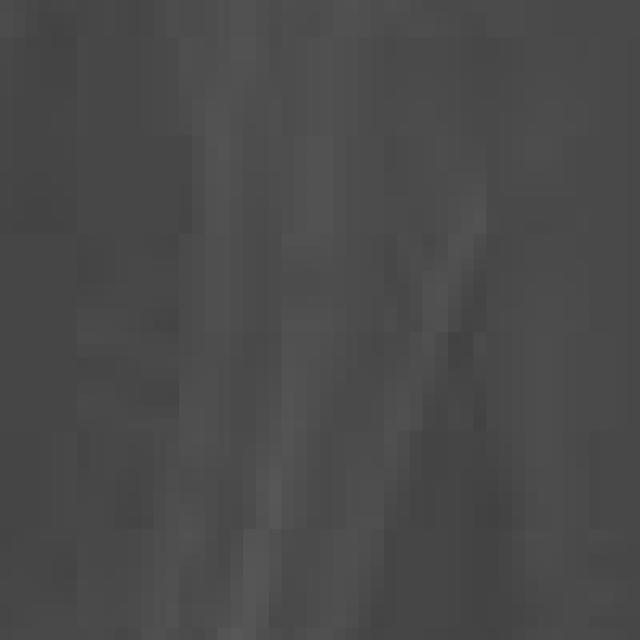fracture: (12, 0, 640, 639)
